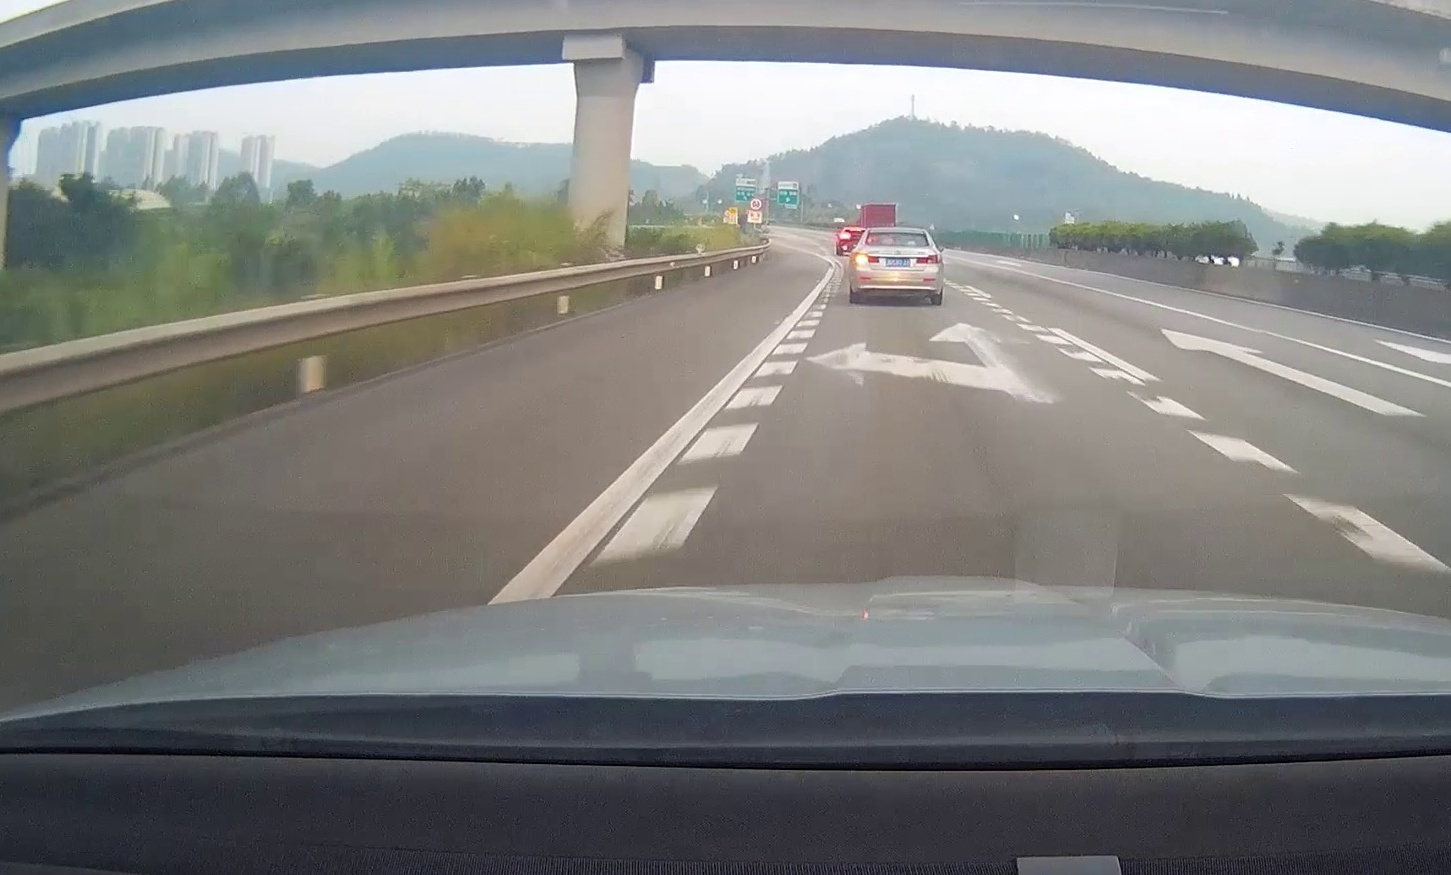L_light: (854, 253, 880, 264)
R_light: (915, 254, 942, 264)
T_light: (890, 244, 907, 246)
day-left: (848, 227, 944, 305)
